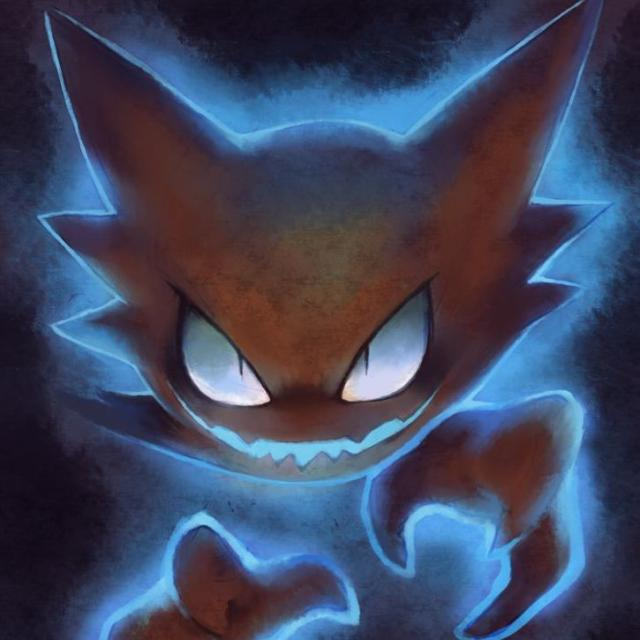Haunter: (29, 4, 620, 488)
